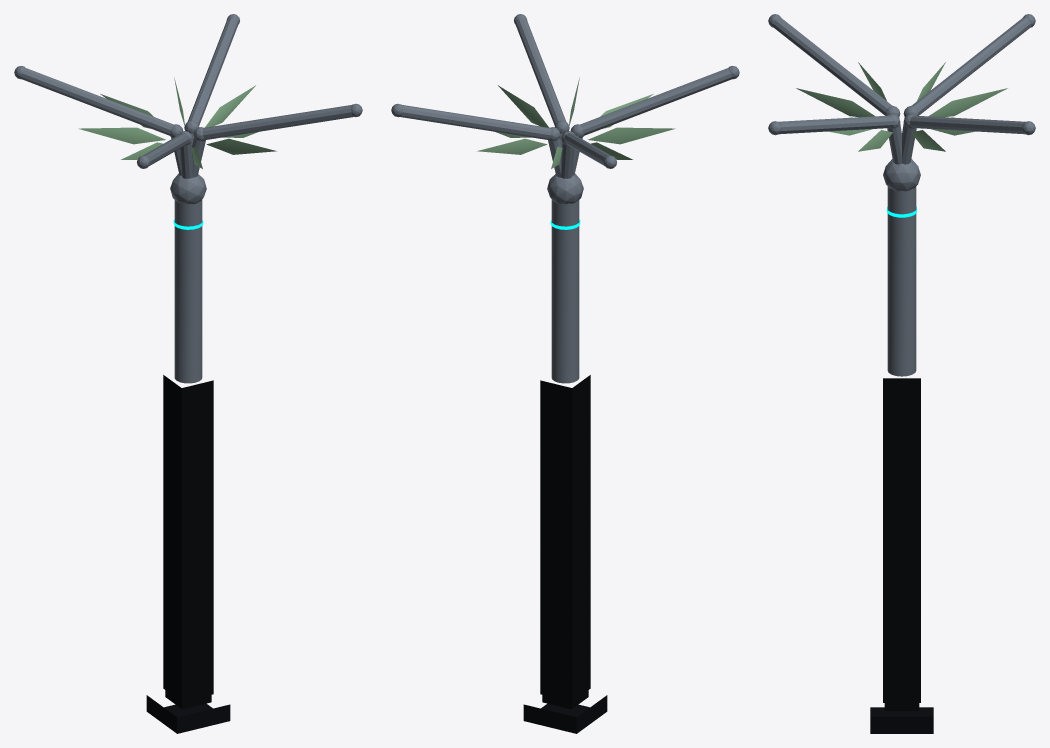
Rendered from tt_tree_column.glb.
3 views of the same model, side by side, from view 1: azimuth 30°, elevation 25°; view 2: azimuth 150°, elevation 25°; view 3: azimuth 270°, elevation 25° (orthographic). The views are drawn at different scales.
Parts seen in each view (by area): view 1: Trunk_Clad, Tree_Steel, Leaf_Capital, Pedestal_Concrete; view 2: Trunk_Clad, Tree_Steel, Leaf_Capital, Pedestal_Concrete; view 3: Tree_Steel, Trunk_Clad, Leaf_Capital, Pedestal_Concrete.
Boxes of the visible parts, x1,y1,x2,y2 form: Trunk_Clad: (163, 375, 213, 701); Tree_Steel: (14, 14, 362, 383); Leaf_Capital: (78, 78, 276, 168); Pedestal_Concrete: (146, 695, 230, 733); Trunk_Clad: (540, 375, 590, 701); Tree_Steel: (391, 14, 739, 383); Leaf_Capital: (477, 78, 675, 168); Pedestal_Concrete: (523, 695, 607, 733); Tree_Steel: (768, 14, 1035, 376); Trunk_Clad: (883, 378, 920, 702); Leaf_Capital: (796, 62, 1007, 151); Pedestal_Concrete: (870, 707, 933, 733).
Size of what is drawn, in the model's own units: 8.45 by 22.73 by 8.45.
5 materials, 3 textured.
